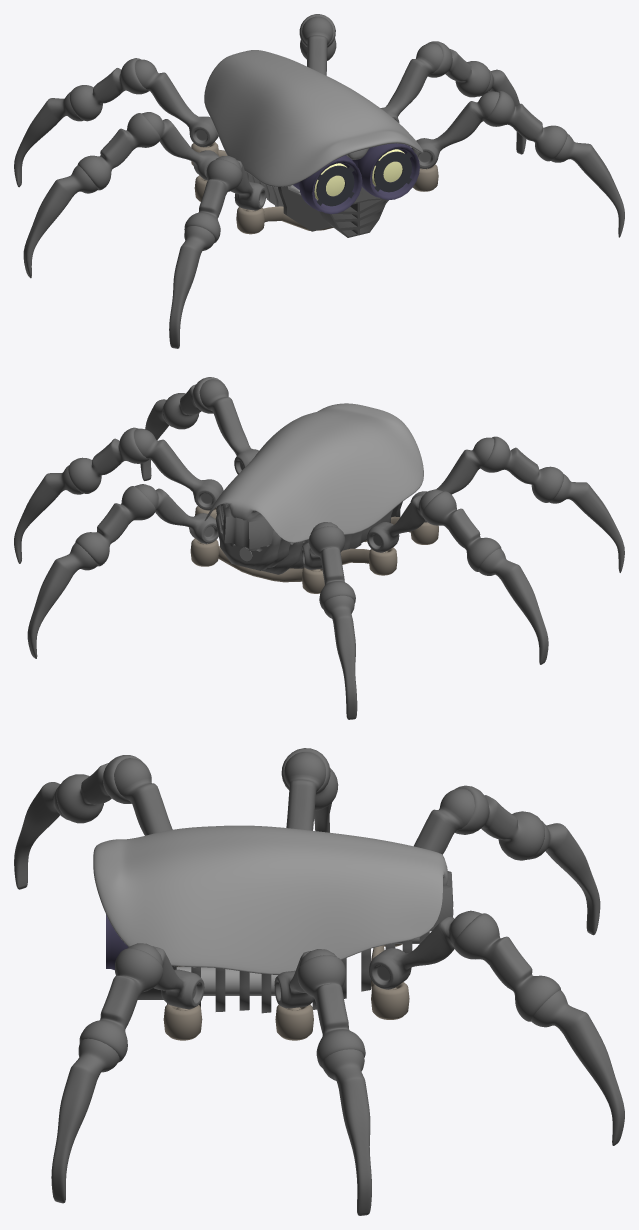
File: aranha.glb
3 views of the same model, one above another, from view 1: azimuth 30°, elevation 25°; view 2: azimuth 150°, elevation 25°; view 3: azimuth 270°, elevation 25° (orthographic). The views are drawn at different scales.
Parts seen in each view (by area): view 1: Arainha_Pernas_v002_divLayer1, Arainha_Pernas_v002_divLayer3_(5), Arainha_Pernas_v002_divLayer2_(6), Arainha_Pernas_v002_divLayer3_(1), Arainha_Pernas_v002_divLayer4_(4), Arainha_Pernas_v002_divLayer4_(5), Arainha_Pernas_v002_divLayer3_(6), Arainha_Pernas_v002_divLayer3_(4), Arainha_Pernas_v002_divLayer2_(1), Arainha_Pernas_v002_divLayer4_(1), Arainha_Pernas_v002_divLayer2_(2), Arainha_Pernas_v002_divLayer3_(2) (+6 smaller); view 2: Arainha_Pernas_v002_divLayer1, Arainha_Pernas_v002_divLayer3_(3), Arainha_Pernas_v002_divLayer3_(5), Arainha_Pernas_v002_divLayer2_(2), Arainha_Pernas_v002_divLayer4_(5), Arainha_Pernas_v002_divLayer3_(4), Arainha_Pernas_v002_divLayer4_(3), Arainha_Pernas_v002_divLayer3_(2), Arainha_Pernas_v002_divLayer4_(6), Arainha_Pernas_v002_divLayer2_(1), Arainha_Pernas_v002_divLayer3_(6), Arainha_Pernas_v002_divLayer4_(4) (+7 smaller); view 3: Arainha_Pernas_v002_divLayer1, Arainha_Pernas_v002_divLayer3_(3), Arainha_Pernas_v002_divLayer4_(1), Arainha_Pernas_v002_divLayer4_(3), Arainha_Pernas_v002_divLayer4_(2), Arainha_Pernas_v002_divLayer3_(1), Arainha_Pernas_v002_divLayer3_(2), Arainha_Pernas_v002_divLayer3_(6), Arainha_Pernas_v002_divLayer2_(3), Arainha_Pernas_v002_divLayer3_(4), Arainha_Pernas_v002_divLayer4_(6), Arainha_Pernas_v002_divLayer2_(4) (+6 smaller).
Boxes of the visible parts, x1=… form: Arainha_Pernas_v002_divLayer1: x1=191, y1=50, x2=438, y2=237; Arainha_Pernas_v002_divLayer3_(5): x1=77, y1=113, x2=160, y2=190; Arainha_Pernas_v002_divLayer2_(6): x1=135, y1=59, x2=218, y2=147; Arainha_Pernas_v002_divLayer3_(1): x1=484, y1=91, x2=567, y2=161; Arainha_Pernas_v002_divLayer4_(4): x1=169, y1=226, x2=215, y2=348; Arainha_Pernas_v002_divLayer4_(5): x1=23, y1=165, x2=97, y2=278; Arainha_Pernas_v002_divLayer3_(6): x1=69, y1=58, x2=148, y2=121; Arainha_Pernas_v002_divLayer3_(4): x1=184, y1=159, x2=242, y2=243; Arainha_Pernas_v002_divLayer2_(1): x1=411, y1=91, x2=499, y2=168; Arainha_Pernas_v002_divLayer4_(1): x1=551, y1=133, x2=624, y2=237; Arainha_Pernas_v002_divLayer2_(2): x1=380, y1=43, x2=442, y2=122; Arainha_Pernas_v002_divLayer3_(2): x1=426, y1=41, x2=490, y2=97; Arainha_Pernas_v002_divLayer1: x1=190, y1=403, x2=438, y2=593; Arainha_Pernas_v002_divLayer3_(3): x1=75, y1=486, x2=155, y2=566; Arainha_Pernas_v002_divLayer3_(5): x1=422, y1=491, x2=501, y2=571; Arainha_Pernas_v002_divLayer2_(2): x1=134, y1=428, x2=223, y2=510; Arainha_Pernas_v002_divLayer4_(5): x1=478, y1=548, x2=548, y2=664; Arainha_Pernas_v002_divLayer3_(4): x1=481, y1=436, x2=563, y2=502; Arainha_Pernas_v002_divLayer4_(3): x1=27, y1=543, x2=97, y2=658; Arainha_Pernas_v002_divLayer3_(2): x1=68, y1=427, x2=149, y2=493; Arainha_Pernas_v002_divLayer4_(6): x1=323, y1=595, x2=357, y2=719; Arainha_Pernas_v002_divLayer2_(1): x1=199, y1=379, x2=258, y2=474; Arainha_Pernas_v002_divLayer3_(6): x1=308, y1=526, x2=355, y2=609; Arainha_Pernas_v002_divLayer4_(4): x1=549, y1=474, x2=624, y2=572; Arainha_Pernas_v002_divLayer1: x1=93, y1=825, x2=453, y2=1040; Arainha_Pernas_v002_divLayer3_(3): x1=453, y1=913, x2=560, y2=1021; Arainha_Pernas_v002_divLayer4_(1): x1=51, y1=1038, x2=119, y2=1203; Arainha_Pernas_v002_divLayer4_(3): x1=531, y1=990, x2=624, y2=1145; Arainha_Pernas_v002_divLayer4_(2): x1=322, y1=1049, x2=371, y2=1215; Arainha_Pernas_v002_divLayer3_(1): x1=79, y1=948, x2=162, y2=1062; Arainha_Pernas_v002_divLayer3_(2): x1=297, y1=955, x2=365, y2=1068; Arainha_Pernas_v002_divLayer3_(6): x1=454, y1=785, x2=544, y2=860; Arainha_Pernas_v002_divLayer2_(3): x1=369, y1=910, x2=481, y2=989; Arainha_Pernas_v002_divLayer3_(4): x1=56, y1=755, x2=142, y2=823; Arainha_Pernas_v002_divLayer4_(6): x1=528, y1=821, x2=600, y2=935; Arainha_Pernas_v002_divLayer2_(4): x1=114, y1=758, x2=172, y2=835.
Bounding box in the file's own units: 16.48 × 4.86 × 12.57.
